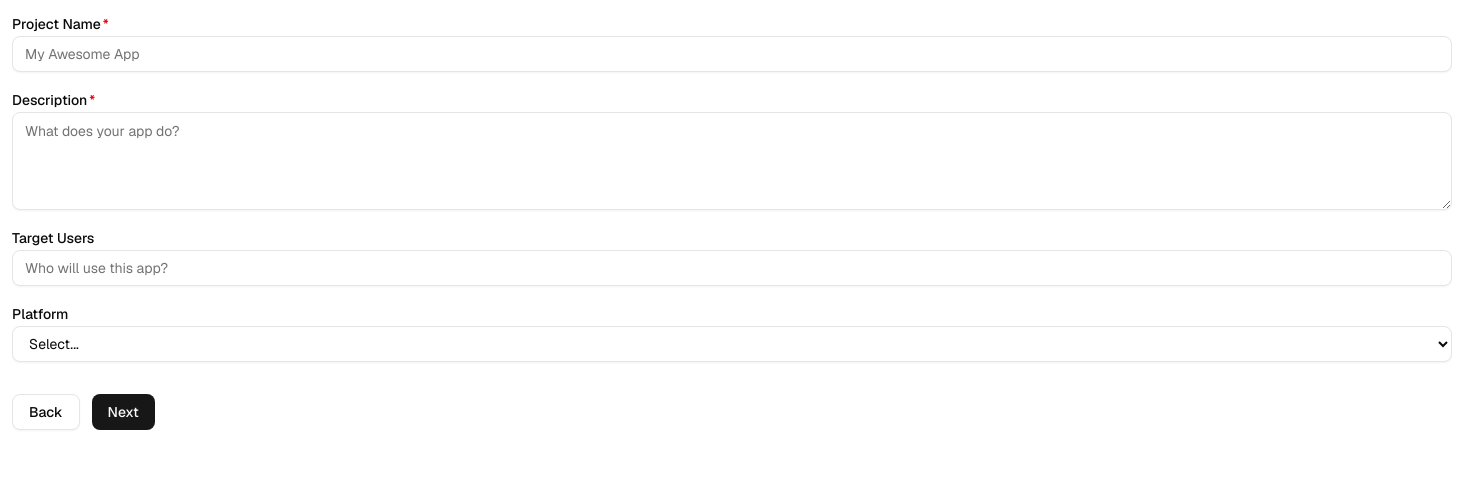
it: TemplateForm › validates required fields on submit
The image size is (1464, 499).
What coordinates should you click on to do the following:
click the button "Next"
I would click on:
 (123, 412)
Its box is [92,394,155,430].
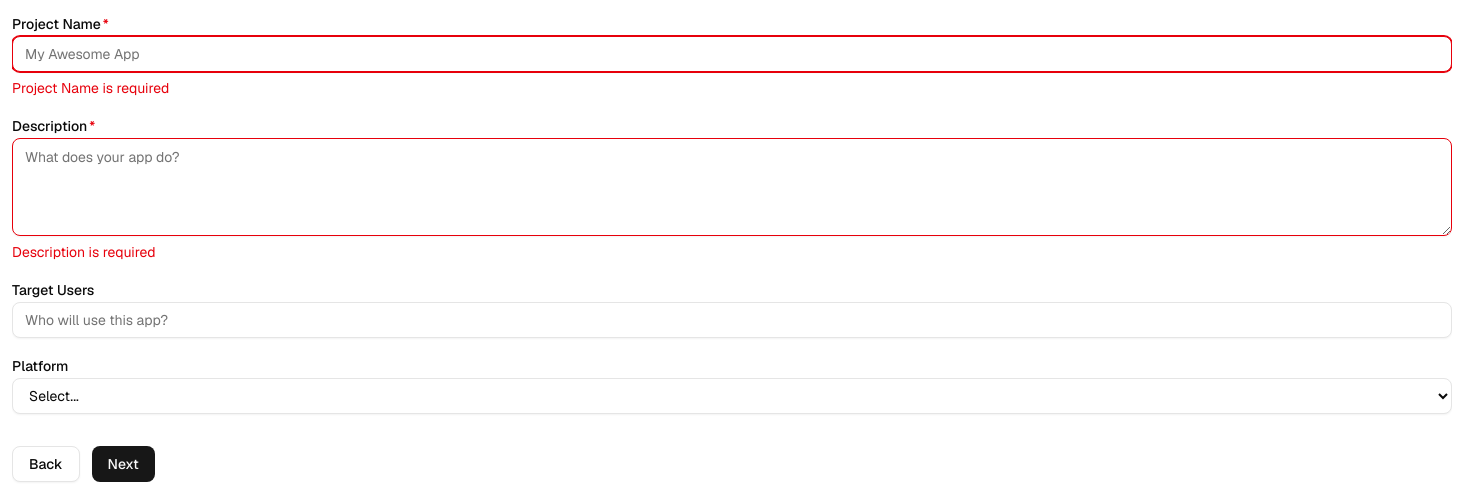
Now the text "Project Name is required" is shown, box [12,79,169,97]
